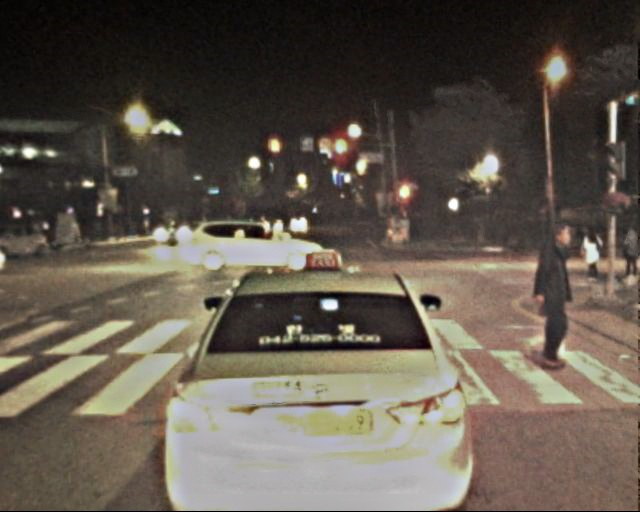person: (522, 222, 581, 367), (579, 224, 606, 289), (618, 226, 640, 283)
